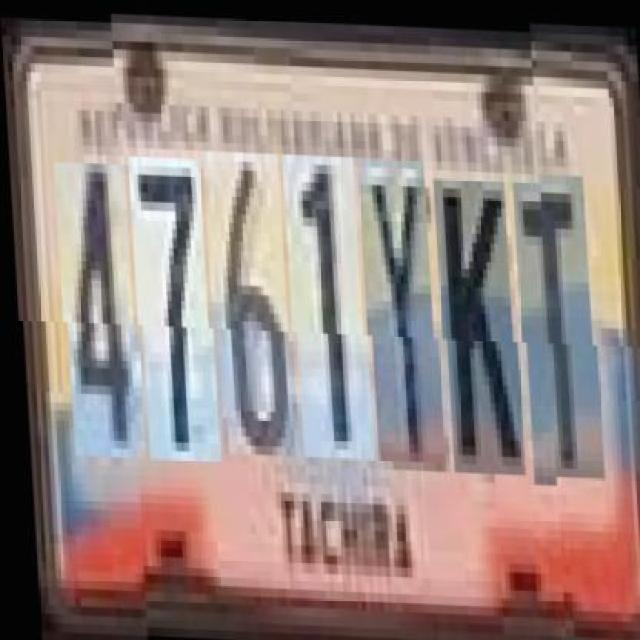1: (285, 152, 369, 457)
4: (55, 153, 140, 450)
6: (204, 149, 294, 454)
7: (131, 155, 215, 460)
k: (435, 175, 520, 470)
t: (515, 178, 600, 482)
y: (359, 155, 439, 459)
